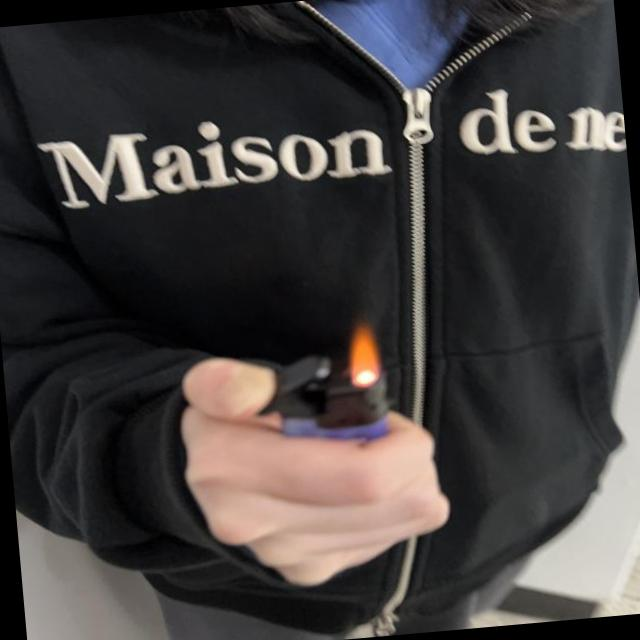Fire: (342, 313, 380, 388)
